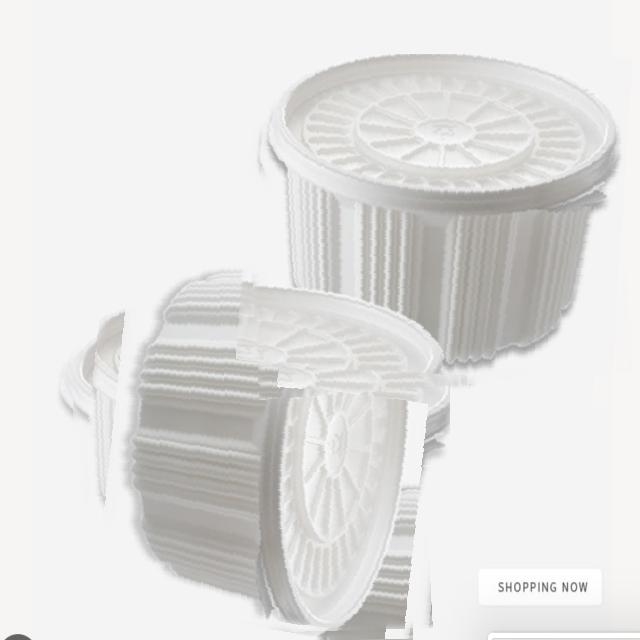recyclable: (65, 255, 450, 638), (239, 54, 636, 400)
